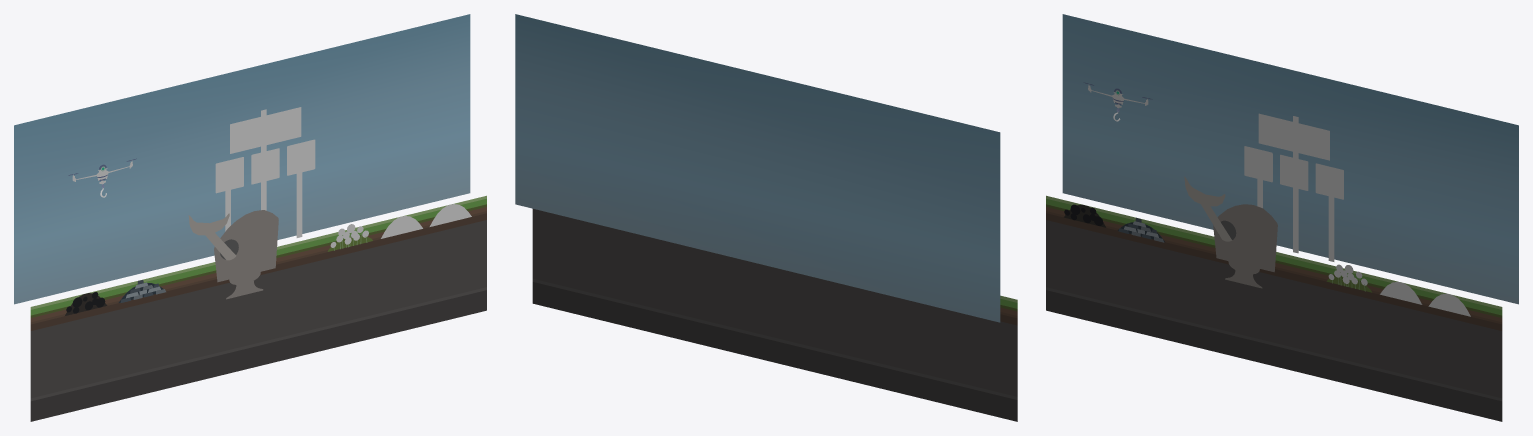
The model's file is full_scene_test01.fbx.
3 views of the same model, side by side, from view 1: azimuth 30°, elevation 25°; view 2: azimuth 150°, elevation 25°; view 3: azimuth 330°, elevation 25° (orthographic). The views are drawn at different scales.
Visible parts, largest first — view 1: sky, Plane, Plane.003, Plane.001, Plane.010, Plane.009, Plane.011, Plane.005, Plane.004, Plane.012, Plane.013, Plane.015 (+1 smaller); view 2: sky, Plane; view 3: sky, Plane, Plane.003, Plane.001, Plane.009, Plane.011, Plane.010, Plane.005, Plane.004, Plane.013, Plane.012, Plane.015 (+2 smaller).
Part boxes in pixels (x1,y1,x2,y2): sky: (14,14,470,304); Plane: (30,195,486,421); Plane.003: (188,210,278,299); Plane.001: (230,107,301,153); Plane.010: (251,148,279,184); Plane.009: (215,157,243,193); Plane.011: (287,139,315,175); Plane.005: (327,224,372,251); Plane.004: (65,292,107,315); Plane.012: (429,204,471,226); Plane.013: (381,216,422,238); Plane.015: (118,280,165,302); sky: (515,14,1000,322); Plane: (532,209,1017,421); sky: (1062,14,1518,304); Plane: (1046,195,1502,421); Plane.003: (1184,176,1277,288); Plane.001: (1258,113,1329,160); Plane.009: (1244,146,1272,182); Plane.011: (1315,163,1343,199); Plane.010: (1280,154,1308,190); Plane.005: (1326,264,1371,292); Plane.004: (1064,204,1106,227); Plane.013: (1380,281,1422,304); Plane.012: (1428,293,1470,316); Plane.015: (1117,217,1164,242).
Bounding box in the file's own units: 1600 × 953 × 160.
